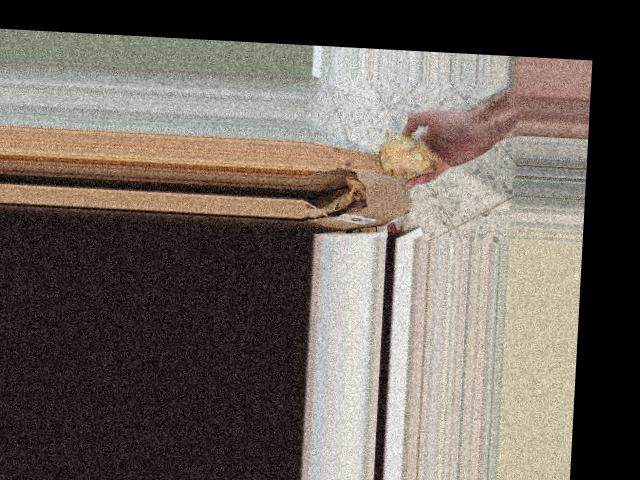onion: (372, 129, 443, 182)
